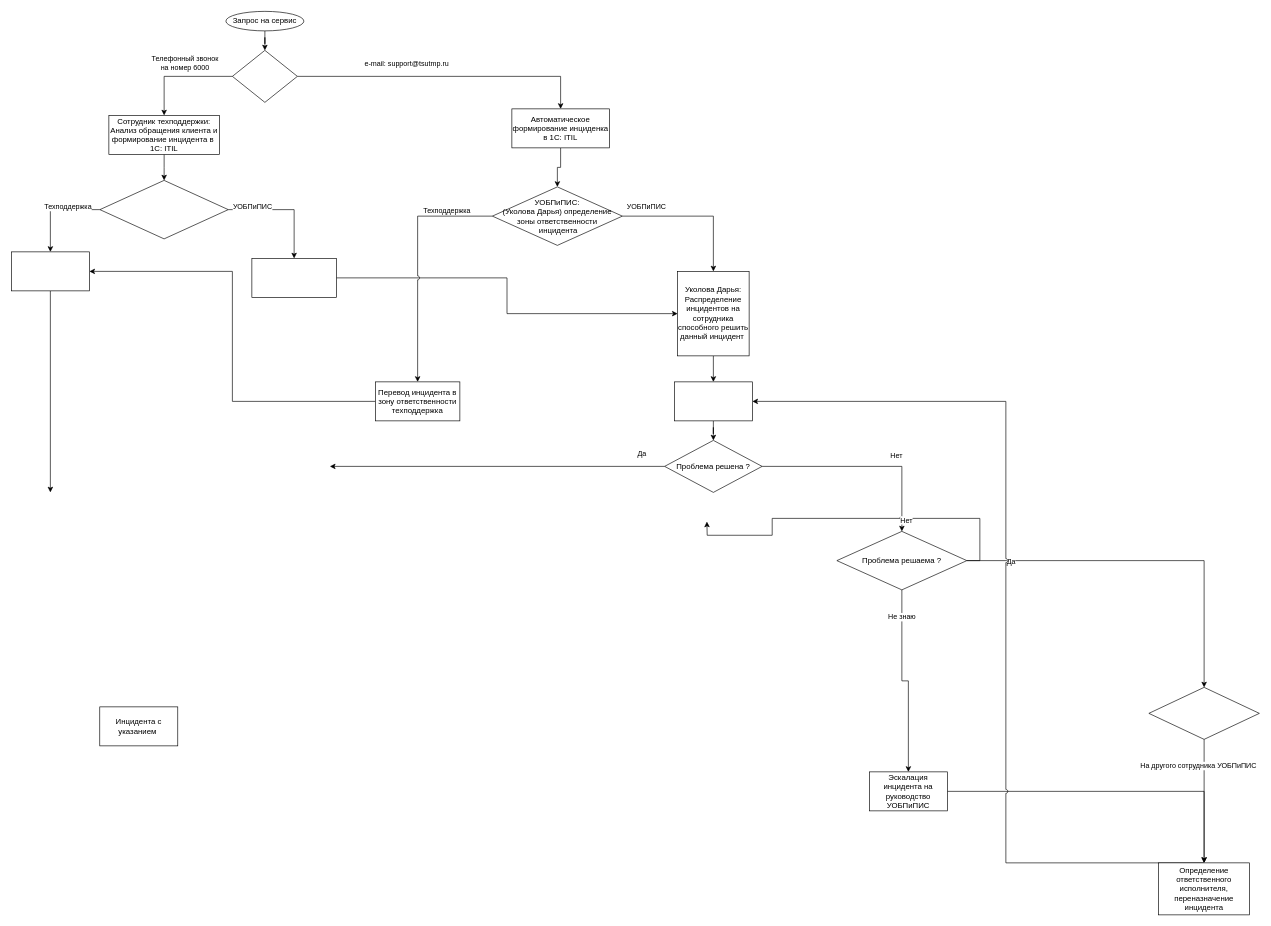
The diagram is 1271 pixels wide and 926 high, and some of its shapes have lost their labels. Each missing label, with the centre of its shape:
На кого нужна эскалация ?: the point at 1203,713
Ответственный сотрудник: Анализ обращения и работа с обращением: the point at 713,401
Перевод инцидента в зону ответственности УОБПиПИС: the point at 293,277
Работа согласно регламентам работы Тезподдержки: the point at 50,271
Способ обращения: the point at 264,76
Техподдержка: Зона ответственности инцидента: the point at 163,209
